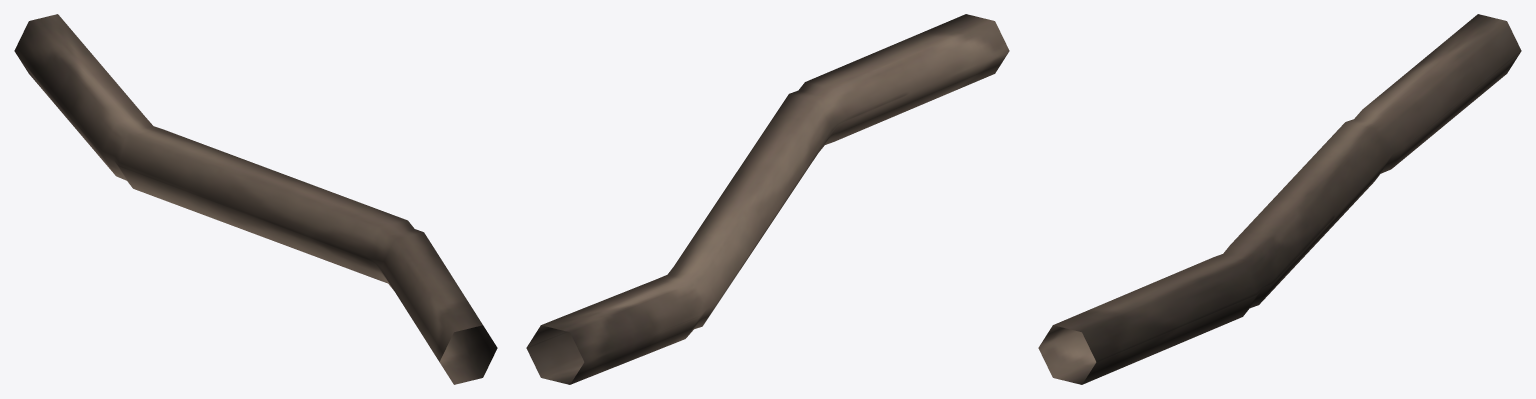
The model's file is PIPE_LINE_XL.fbx.
3 views of the same model, side by side, from view 1: azimuth 30°, elevation 25°; view 2: azimuth 150°, elevation 25°; view 3: azimuth 330°, elevation 25° (orthographic).
Visible parts, largest first — view 1: polySurface3; view 2: polySurface3; view 3: polySurface3.
Boxes of the visible parts, x1,y1,x2,y2 form: polySurface3: [14, 14, 497, 384]; polySurface3: [526, 14, 1009, 384]; polySurface3: [1038, 14, 1521, 384].
Bounding box in the file's own units: 3.35 × 2.01 × 20.
